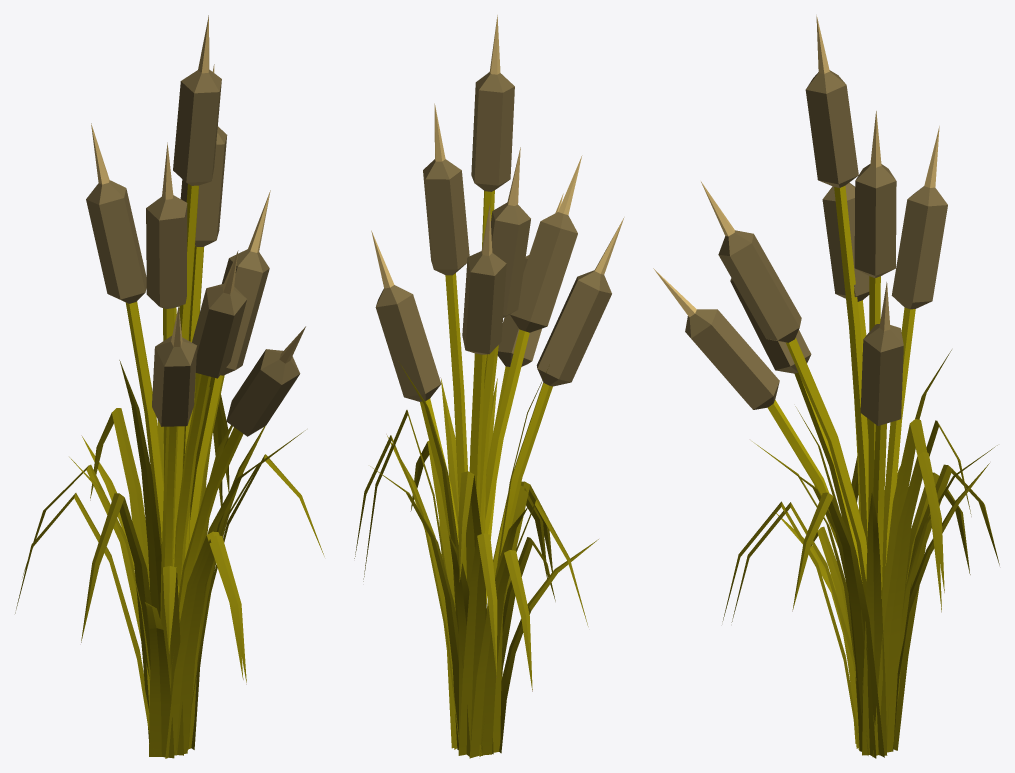
File: CattailCluster 2.fbx
3 views of the same model, side by side, from view 1: azimuth 30°, elevation 25°; view 2: azimuth 150°, elevation 25°; view 3: azimuth 270°, elevation 25° (orthographic). The views are drawn at different scales.
Visible parts, largest first — view 1: Cattail_Cluster_1_2, Cattail_Cluster_3_2, Cattail_Cluster_2_2; view 2: Cattail_Cluster_3_2, Cattail_Cluster_1_2, Cattail_Cluster_2_2; view 3: Cattail_Cluster_3_2, Cattail_Cluster_1_2, Cattail_Cluster_2_2.
Boxes of the visible parts, x1,y1,x2,y2 form: Cattail_Cluster_1_2: (69,250,324,758); Cattail_Cluster_3_2: (15,15,270,755); Cattail_Cluster_2_2: (81,64,305,749); Cattail_Cluster_3_2: (363,15,555,758); Cattail_Cluster_1_2: (398,155,624,756); Cattail_Cluster_2_2: (354,103,588,756); Cattail_Cluster_3_2: (795,15,999,755); Cattail_Cluster_1_2: (653,181,971,757); Cattail_Cluster_2_2: (731,111,989,758).
Size of the model in its own units: 36.06 by 118 by 50.51.
1 material, 1 textured.
